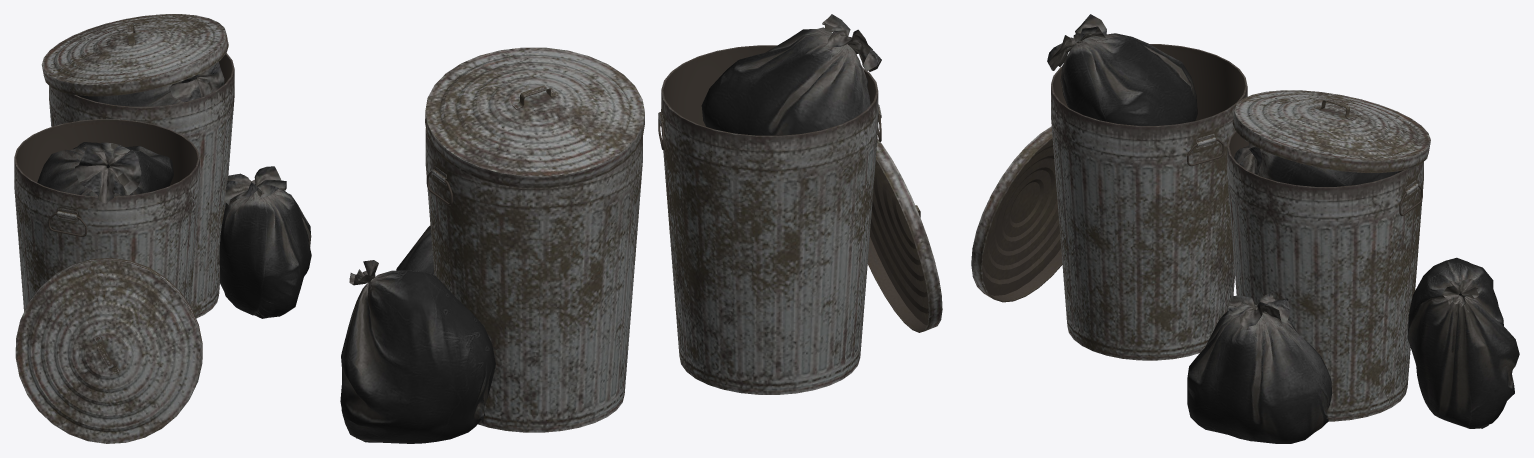
The model's file is trash 2 .fbx.
3 renders of one model, left to right at view 1: azimuth 30°, elevation 25°; view 2: azimuth 150°, elevation 25°; view 3: azimuth 270°, elevation 25°, orthographic. The views are drawn at different scales.
Parts seen in each view (by area): view 1: object_1, object_0.001; view 2: object_1, object_0.001; view 3: object_1, object_0.001.
Boxes of the visible parts, x1,y1,x2,y2 form: object_1: (14,14,234,443); object_0.001: (37,61,311,318); object_1: (425,45,942,432); object_0.001: (340,14,881,443); object_1: (971,44,1430,421); object_0.001: (1047,14,1519,443).
Bounding box in the file's own units: 26.4 × 18.19 × 31.32.
2 materials, 2 textured.
